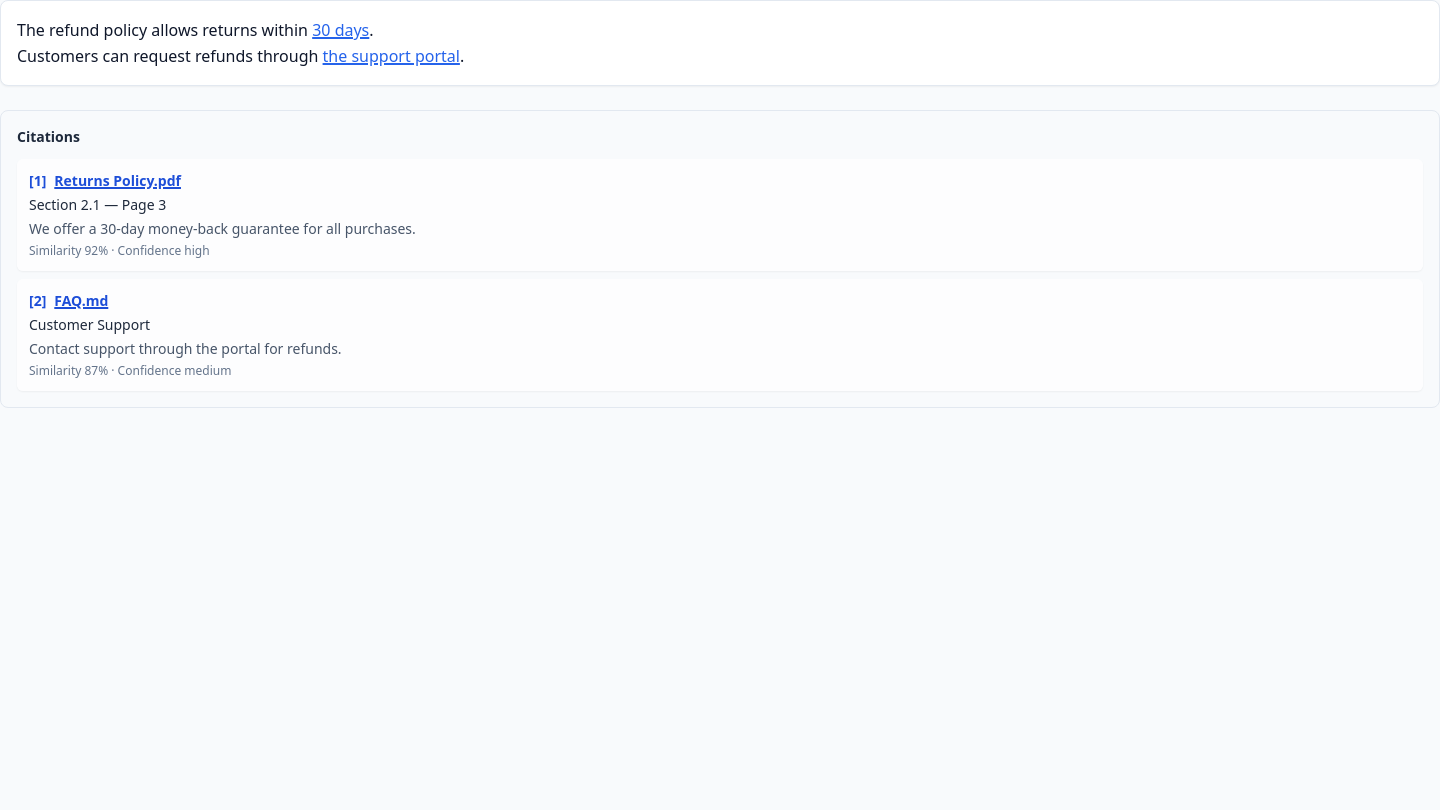
Scenario: AnnotatedAnswer › opens source viewer when clicking inline citation
The image size is (1440, 810).
// Click on inline citation (search for text that contains "30 days" which is the citation)
Click the text "30 days".
click(341, 30)  # box [312,19,369,41]
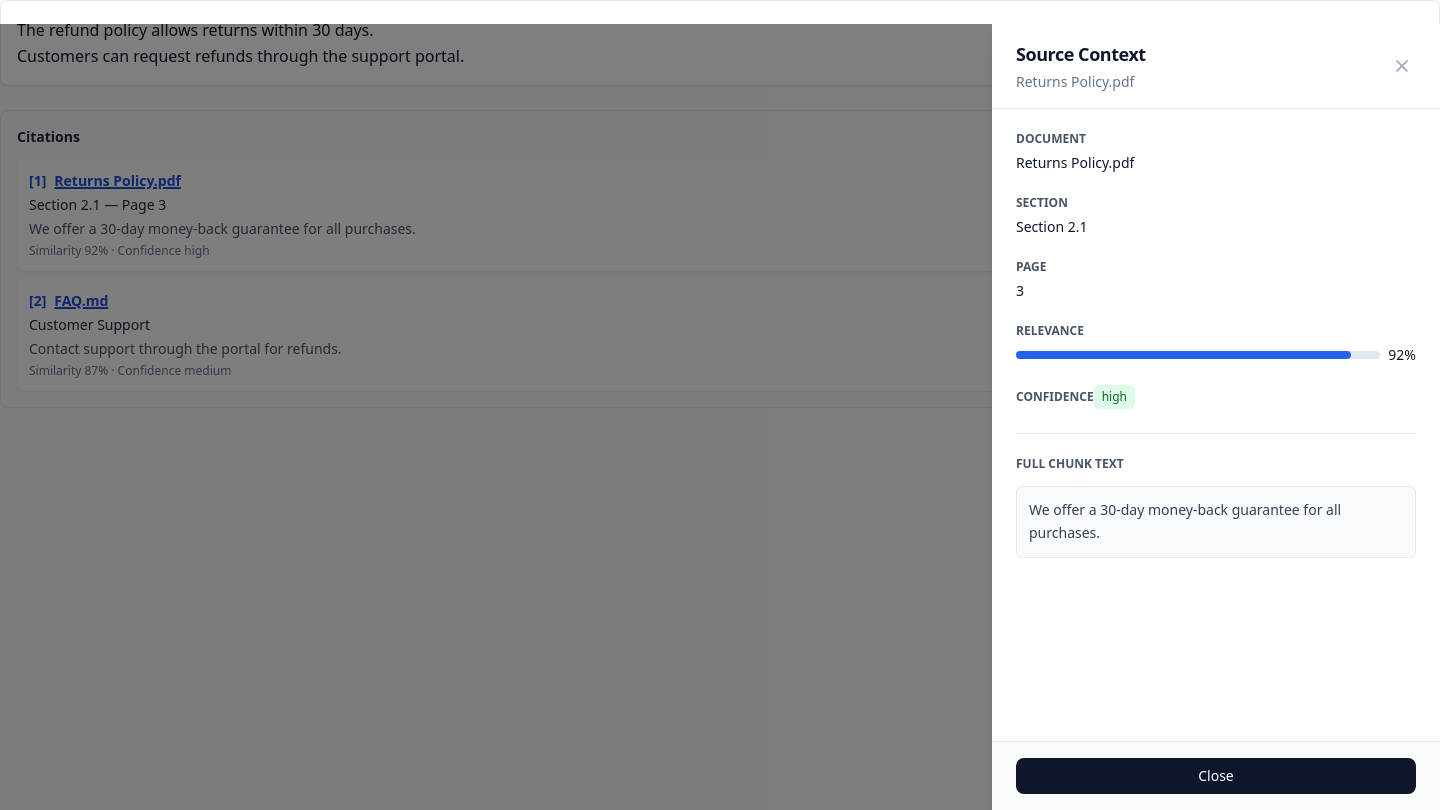
Check: the heading "Source Context" is shown, box [1016,42,1146,66]
